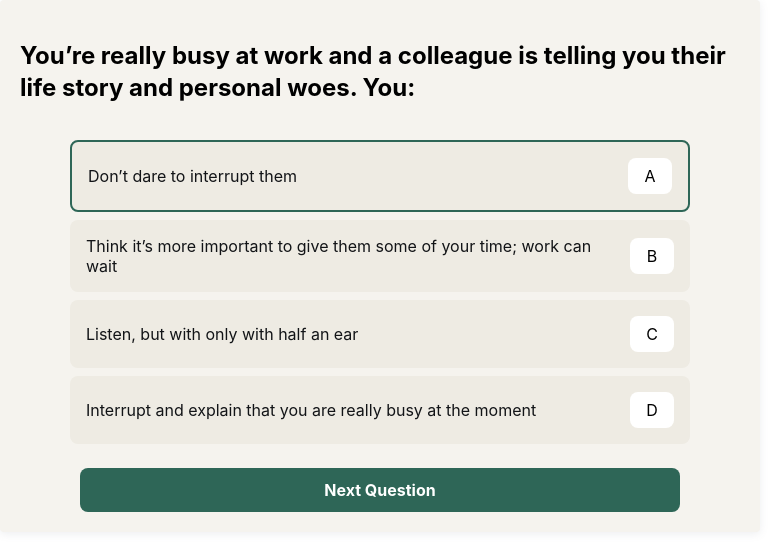
Test: should go to previous question when clicking on previous button
Click the text "Next Question". click: (380, 490)
box: left=324, top=480, right=436, bottom=500
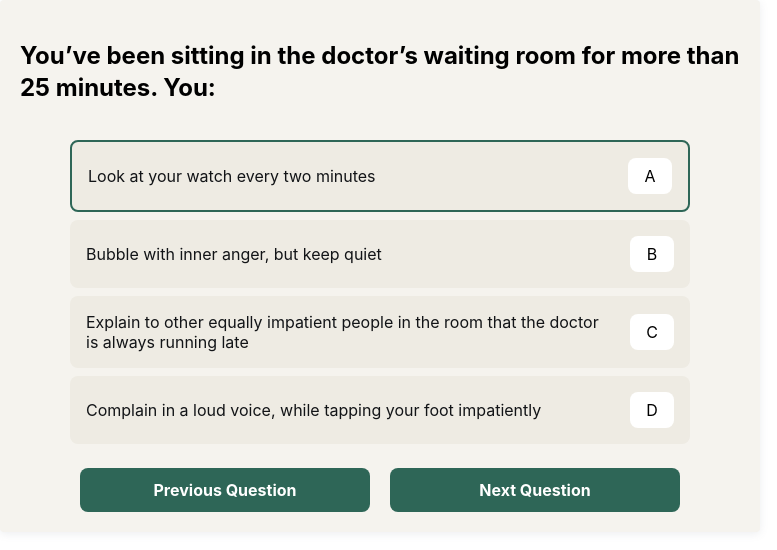
Expected: the heading "You’ve been sitting in the doctor’s waiting room for more than 25 minutes. You:" is shown, left=20, top=40, right=740, bottom=104
Expected: the text "Look at your watch every two minutes" is shown, left=88, top=166, right=376, bottom=186
Click the text "Previous Question". click: (225, 490)
box: left=154, top=480, right=296, bottom=500
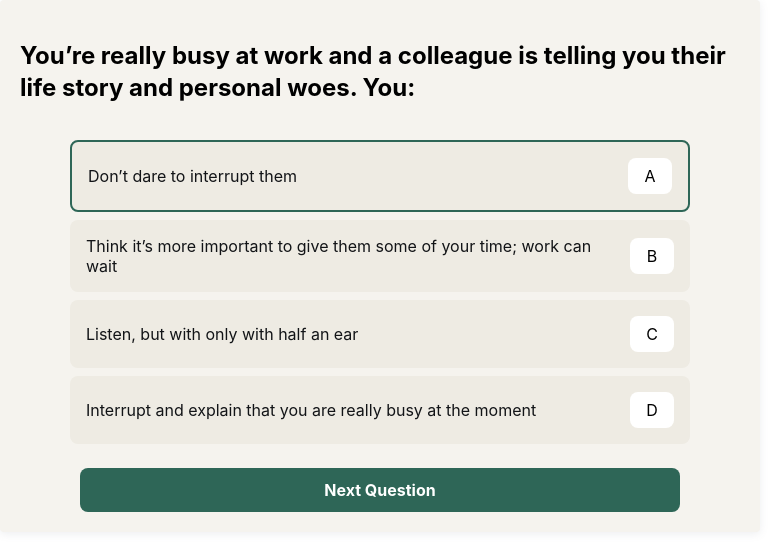
Expected: the heading "You’re really busy at work and a colleague is telling you their life story and personal woes. You:" is shown, left=20, top=41, right=726, bottom=102
Expected: the text "Don’t dare to interrupt them" is shown, left=88, top=166, right=297, bottom=186
